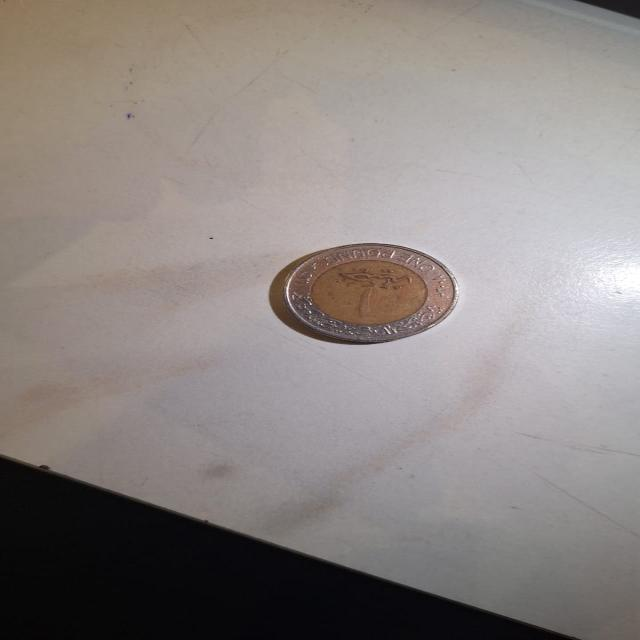One Pound: (264, 239, 472, 346)
